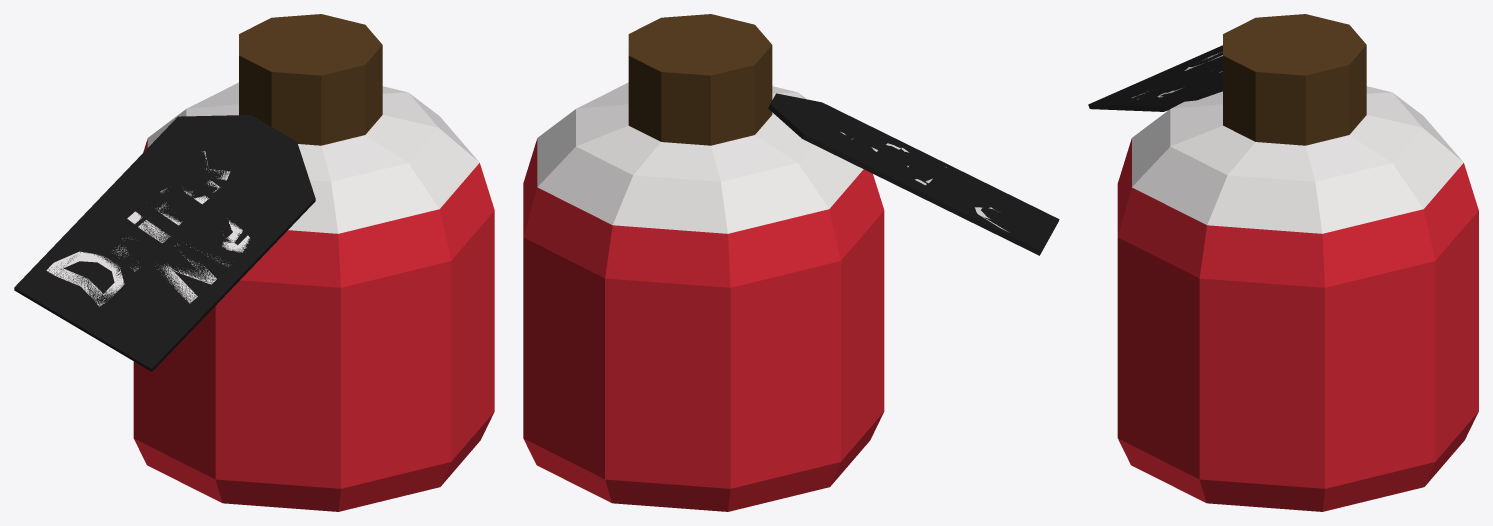
Rendered from HealthPotion.fbx.
3 views of the same model, side by side, from view 1: azimuth 30°, elevation 25°; view 2: azimuth 150°, elevation 25°; view 3: azimuth 270°, elevation 25° (orthographic).
Visible parts, largest first — view 1: HealingPotion; view 2: HealingPotion; view 3: HealingPotion.
Part boxes in pixels (<box>): HealingPotion: <box>14,14,494,511</box>; HealingPotion: <box>523,14,1059,511</box>; HealingPotion: <box>1088,14,1478,511</box>.
Bounding box in the file's own units: 296 × 242 × 210.
